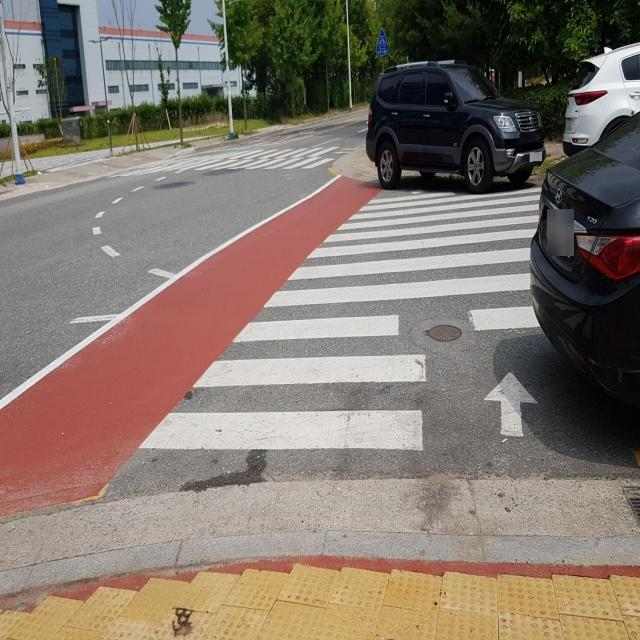횡단보도: (137, 186, 542, 452), (167, 146, 339, 171)
